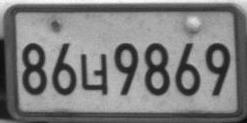6: (174, 42, 202, 97), (50, 42, 77, 96)
8: (20, 41, 48, 96), (143, 41, 171, 96)
9: (112, 41, 139, 96), (204, 41, 231, 96)
너: (79, 52, 108, 96)
